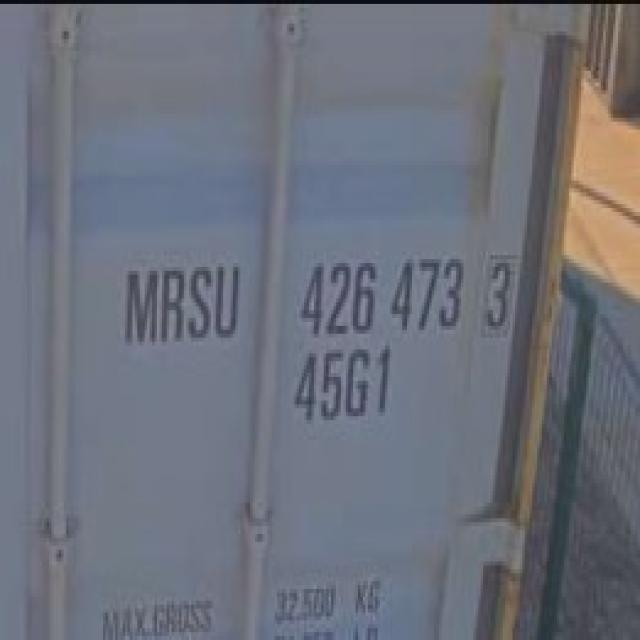dv: (479, 246, 517, 339)
owner: (120, 256, 244, 349)
serial: (299, 250, 466, 344)
size: (292, 346, 397, 434)
